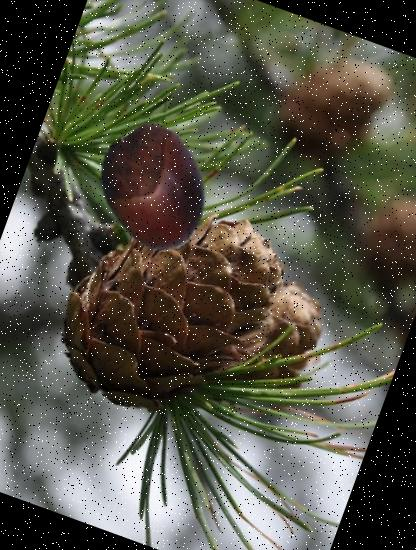Chestnut: (76, 110, 235, 268)
